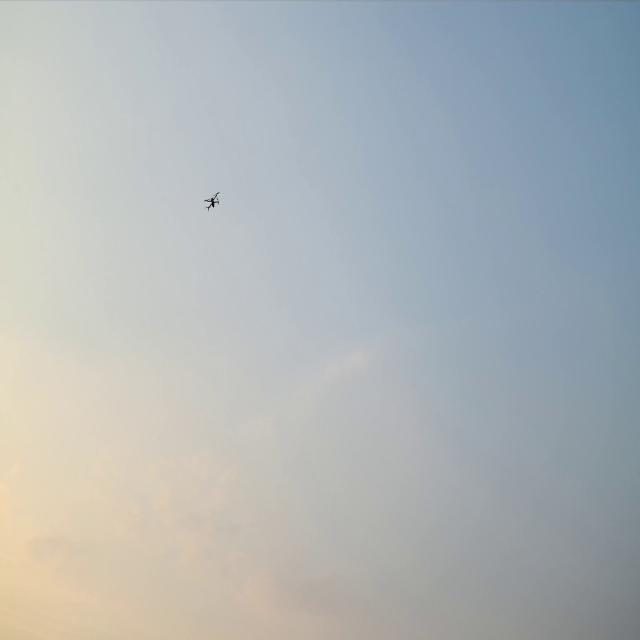UAV: (203, 190, 223, 212)
